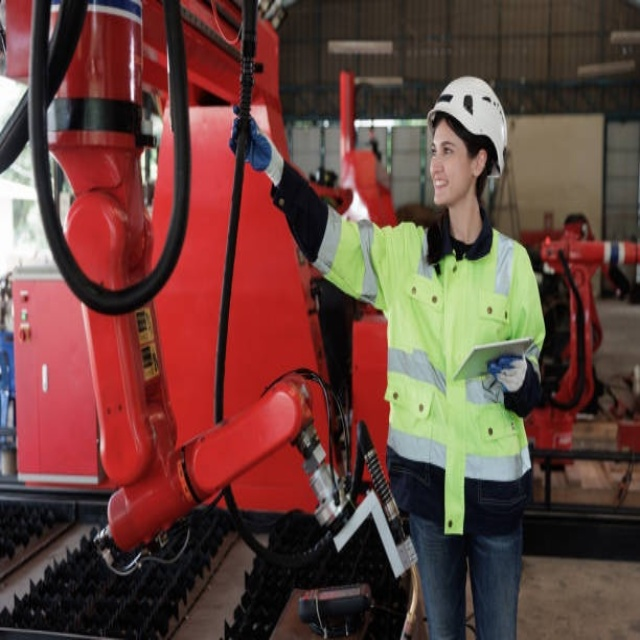Guantes: (229, 107, 274, 176), (489, 355, 528, 394)
Sin_gafas: (430, 135, 462, 168)
Sin_mascara: (430, 171, 453, 201)
